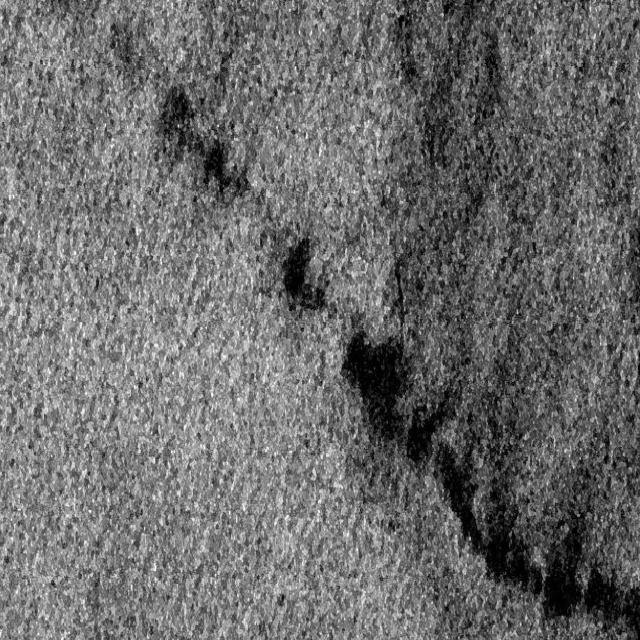look-alike: (426, 434, 637, 628), (342, 322, 449, 483), (165, 74, 251, 213), (268, 220, 342, 333)
